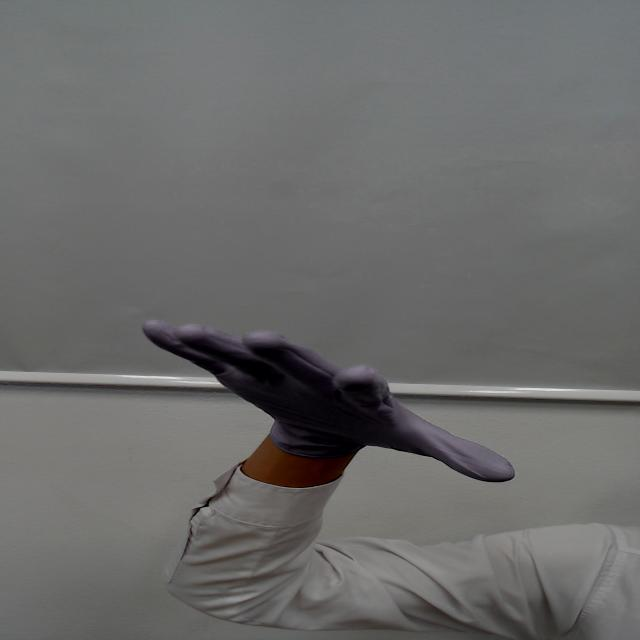glove: (126, 305, 544, 483)
